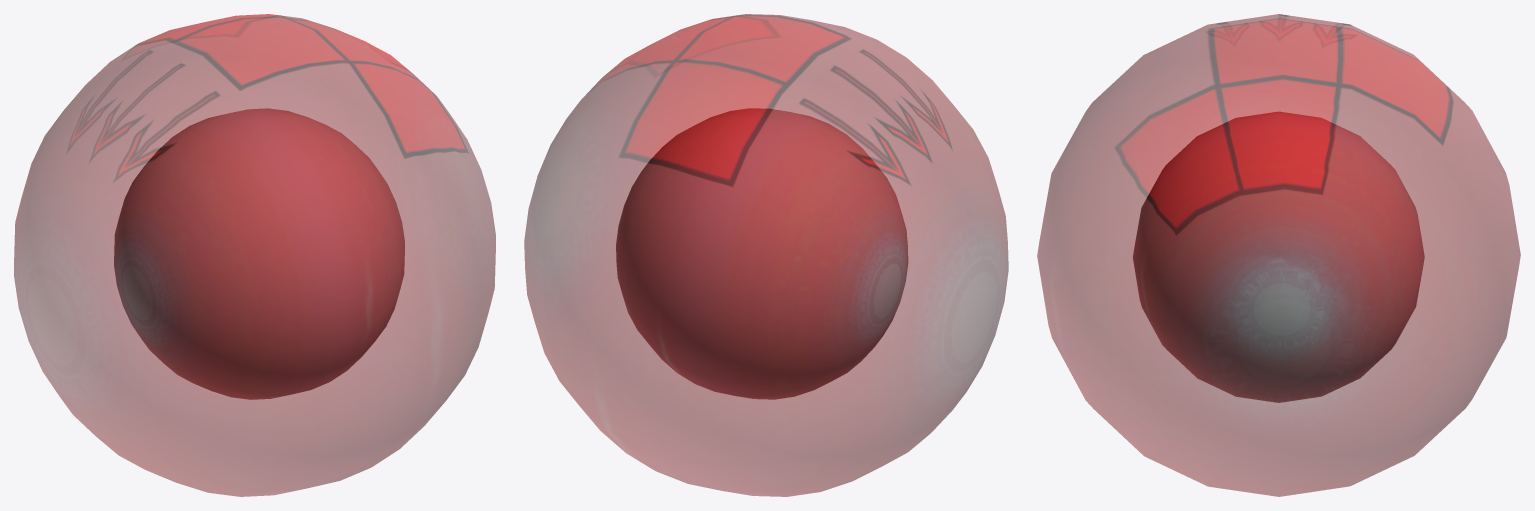
The model's file is Fast Fall Speed.fbx.
3 views of the same model, side by side, from view 1: azimuth 30°, elevation 25°; view 2: azimuth 150°, elevation 25°; view 3: azimuth 270°, elevation 25° (orthographic).
Visible parts, largest first — view 1: polySurface3; view 2: polySurface3; view 3: polySurface3.
Part boxes in pixels (left/top/right/bottom): polySurface3: left=14, top=14, right=495, bottom=496; polySurface3: left=524, top=14, right=1008, bottom=496; polySurface3: left=1037, top=14, right=1520, bottom=496.
Bounding box in the file's own units: 2 × 2 × 2.
